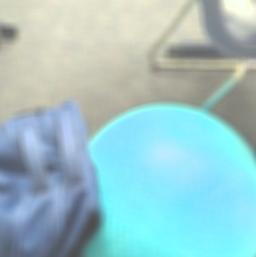algae: (81, 100, 256, 257)
